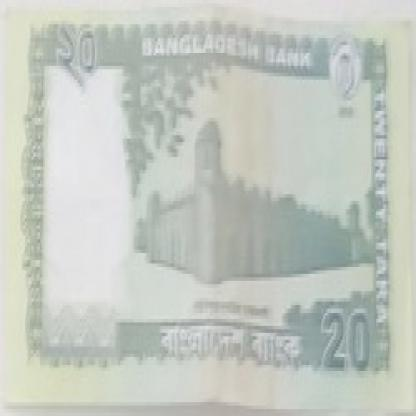Twenty: (50, 21, 108, 107), (314, 298, 372, 381)
